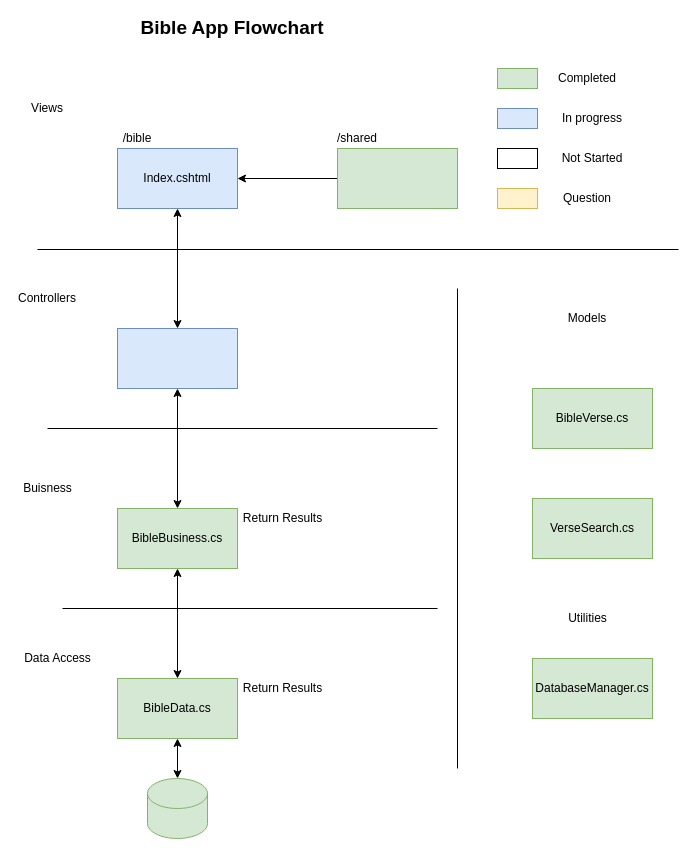
This 697x856 diagram has some shape labels left out. The shapes that lost their labels are listed below. From the top down, each one's centre as x and y in pixels, then its label:
At [397,178]: "_Layout.cshtml".
At [177,358]: "BibleController.cs".
At [177,808]: "Bible".
